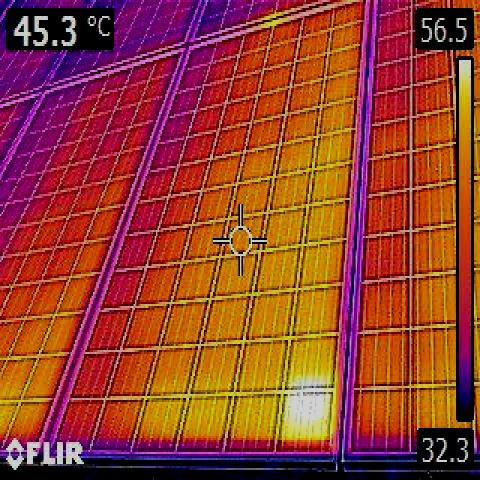fault: (286, 389, 336, 446)
